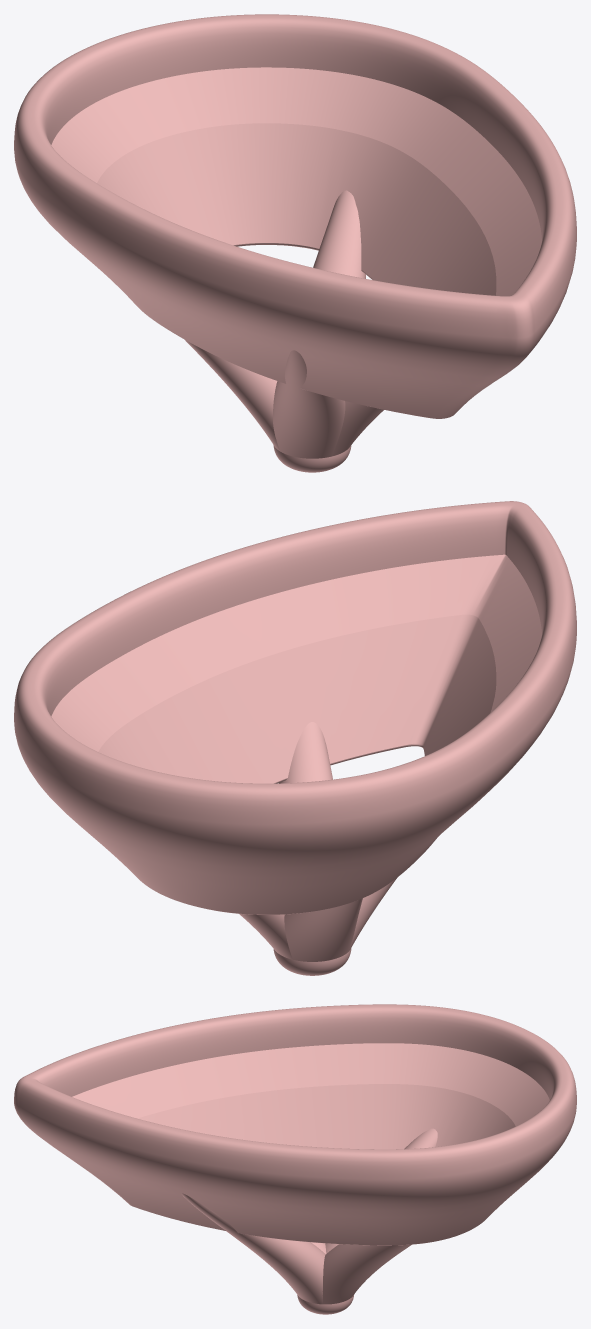
File: Pear-Bezel.glb
3 views of the same model, one above another, from view 1: azimuth 30°, elevation 25°; view 2: azimuth 150°, elevation 25°; view 3: azimuth 270°, elevation 25° (orthographic). The views are drawn at different scales.
Visible parts, largest first — view 1: Pear; view 2: Pear; view 3: Pear.
Boxes of the visible parts, x1,y1,x2,y2 form: Pear: (14, 14, 576, 472); Pear: (14, 501, 576, 975); Pear: (14, 1004, 576, 1314).
Bounding box in the file's own units: 5.8 × 4.01 × 8.86.
